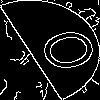O: (25, 25, 100, 80)
